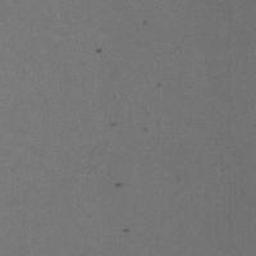Inclusion: (110, 120, 118, 128), (95, 47, 104, 54), (156, 81, 163, 90), (114, 182, 124, 188), (141, 19, 148, 26), (142, 125, 148, 133), (122, 228, 131, 233)
